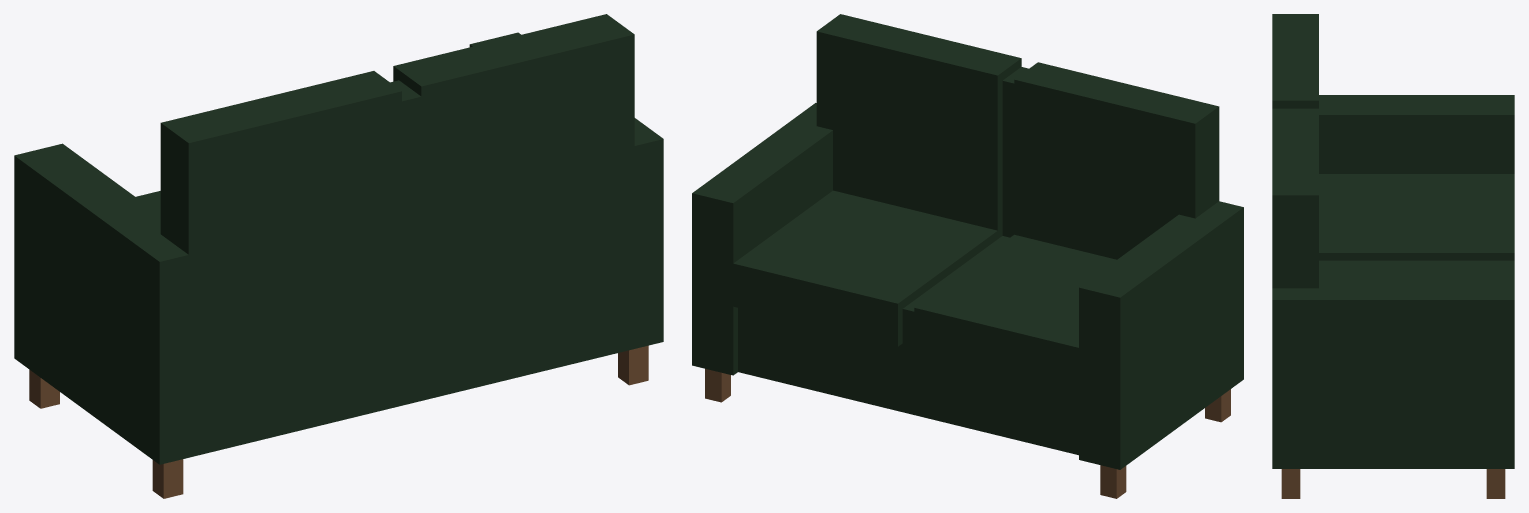
Rendered from couch_02.glb.
The picture shows the model from 3 angles, left to right: view 1: azimuth 30°, elevation 25°; view 2: azimuth 150°, elevation 25°; view 3: azimuth 270°, elevation 25°; orthographic projection. The views are drawn at different scales.
Visible parts, largest first — view 1: Untitled; view 2: Untitled; view 3: Untitled.
Part boxes in pixels (<box>): Untitled: <box>14,14,663,498</box>; Untitled: <box>692,14,1243,498</box>; Untitled: <box>1272,14,1514,498</box>.
Size of the model in its own units: 1.56 by 1.05 by 0.78.
1 material, 1 textured.
